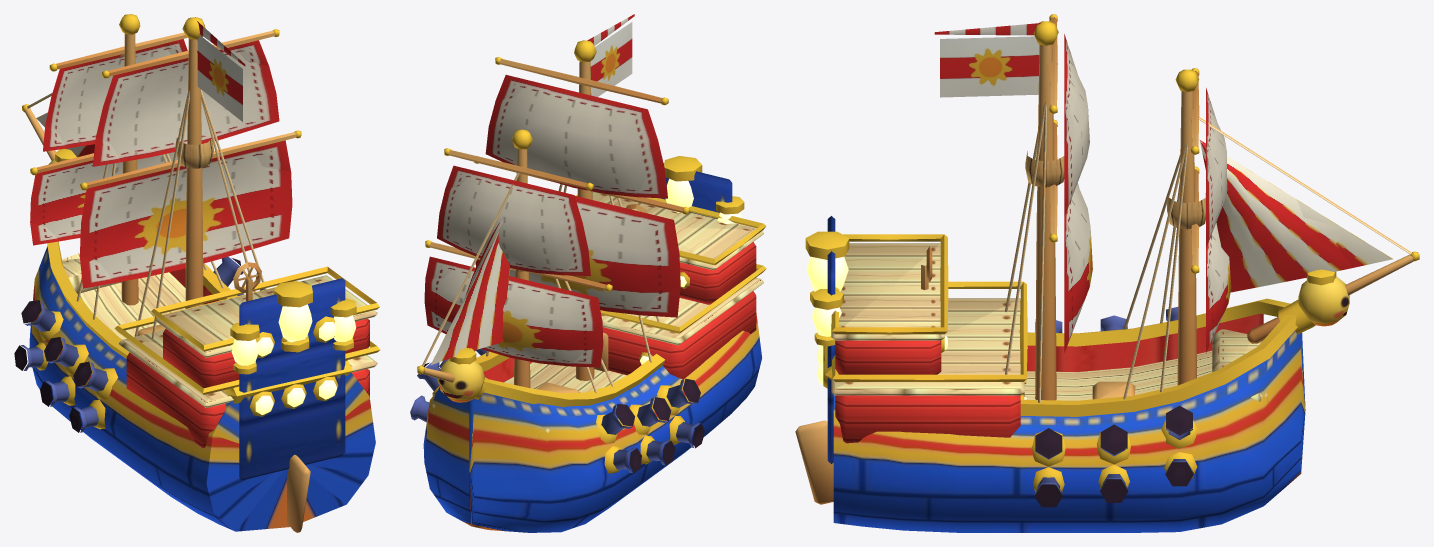
File: navy_galleon.glb
3 renders of one model, left to right at view 1: azimuth 30°, elevation 25°; view 2: azimuth 150°, elevation 25°; view 3: azimuth 270°, elevation 25°, orthographic. The views are drawn at different scales.
Parts seen in each view (by area): view 1: Hull, Sail1_0, Rigging, Sail1_1, Sail0_1, Sail0_0, Guns0, Flag; view 2: Hull, Sail1_1, Sail0_1, Sail0_0, Sail1_0, Rigging, Jib, Guns0, Flag; view 3: Hull, Rigging, Jib, Flag, Guns0, Sail1_0, Sail1_1, Sail0_1, Sail0_0.
Part boxes in pixels (<box>): Hull: <box>29,149,380,532</box>; Sail1_0: <box>79,140,292,288</box>; Rigging: <box>22,14,301,339</box>; Sail1_1: <box>92,40,279,166</box>; Sail0_1: <box>43,39,187,151</box>; Sail0_0: <box>30,152,177,245</box>; Guns0: <box>14,256,264,432</box>; Flag: <box>197,21,245,121</box>; Hull: <box>423,156,766,532</box>; Sail1_1: <box>485,75,667,198</box>; Sail0_1: <box>437,165,590,275</box>; Sail0_0: <box>424,256,603,367</box>; Sail1_0: <box>475,196,680,317</box>; Rigging: <box>417,40,689,393</box>; Jib: <box>431,220,509,364</box>; Guns0: <box>410,349,704,472</box>; Flag: <box>587,14,634,96</box>; Hull: <box>795,216,1349,532</box>; Rigging: <box>1005,14,1419,402</box>; Jib: <box>1199,139,1392,292</box>; Flag: <box>934,23,1040,97</box>; Guns0: <box>1034,307,1193,507</box>; Sail1_0: <box>1064,183,1092,352</box>; Sail1_1: <box>1064,34,1089,216</box>; Sail0_1: <box>1206,88,1227,247</box>; Sail0_0: <box>1206,223,1231,352</box>.
Size of the model in its own units: 1.94 by 3.51 by 4.06.
8 materials, 8 textured.
